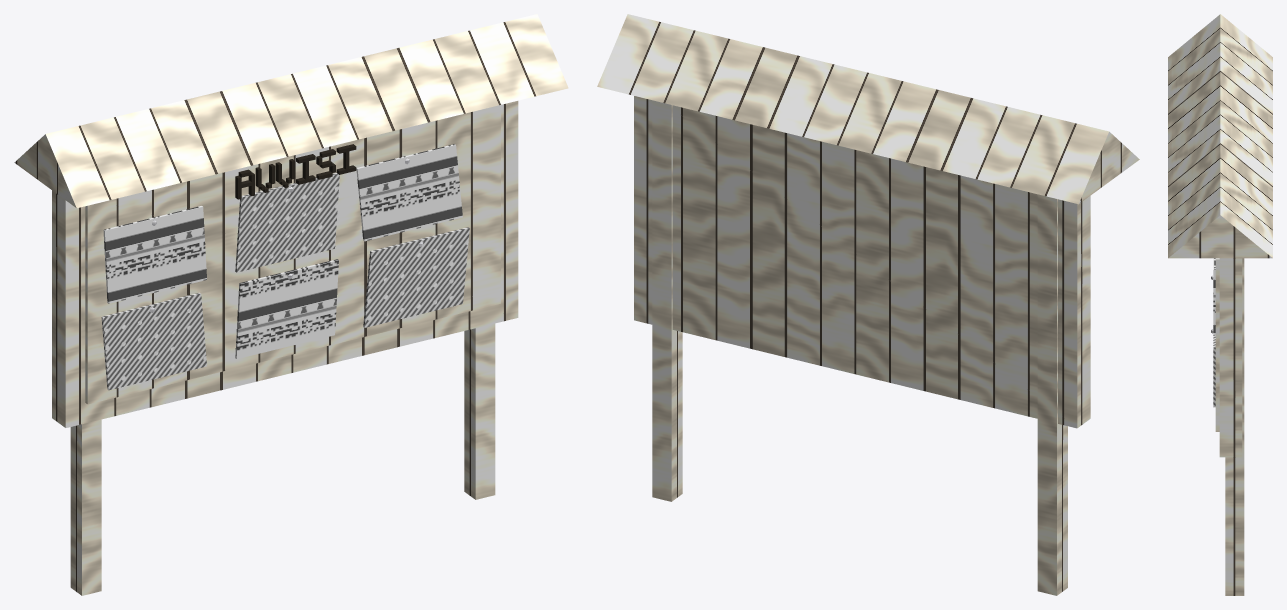
File: bacheca.obj
3 views of the same model, side by side, from view 1: azimuth 30°, elevation 25°; view 2: azimuth 150°, elevation 25°; view 3: azimuth 270°, elevation 25° (orthographic). The views are drawn at different scales.
Parts seen in each view (by area): view 1: legno_000, legno_002, legno_001, stampa_b_007, stampa_a_006, stampa_a_008, stampa_a_010, stampa_b_004, stampa_b_009, liscio_003; view 2: legno_001, legno_000; view 3: legno_000, legno_001, legno_002, stampa_a_010, stampa_b_007.
Boxes of the visible parts, x1,y1,x2,y2 form: legno_000: (14,14,568,595); legno_002: (85,105,500,404); legno_001: (52,101,518,427); stampa_b_007: (363,227,469,327); stampa_a_006: (235,259,338,358); stampa_a_008: (103,206,206,303); stampa_a_010: (356,144,462,241); stampa_b_004: (101,292,206,390); stampa_b_009: (235,173,339,272); liscio_003: (235,144,356,199); legno_001: (634,96,1090,428); legno_000: (597,14,1139,595); legno_000: (1168,14,1272,595); legno_001: (1219,258,1242,457); legno_002: (1215,258,1219,431); stampa_a_010: (1213,258,1215,334); stampa_b_007: (1213,335,1215,407).
Bounding box in the file's own units: 2.5 × 2.3 × 0.55.
11 materials, 10 textured.
